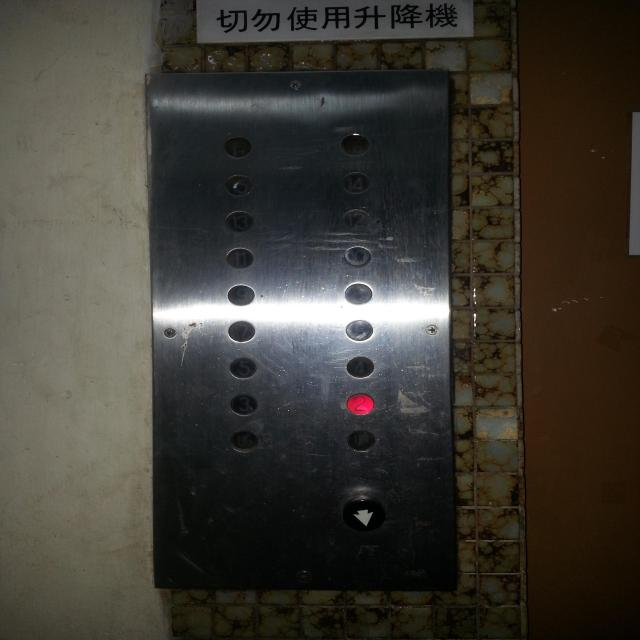11: (224, 246, 255, 270)
12: (340, 208, 372, 231)
13: (223, 209, 255, 235)
14: (340, 170, 371, 194)
16: (338, 132, 372, 158)
2: (345, 391, 375, 416)
3: (228, 392, 259, 417)
4: (345, 354, 375, 379)
5: (228, 356, 258, 379)
7: (227, 319, 256, 343)
9: (226, 283, 256, 307)
UG: (345, 427, 376, 453), (228, 429, 259, 453)
blur: (343, 280, 373, 306), (344, 318, 374, 343), (223, 173, 254, 197), (223, 135, 253, 159), (342, 245, 372, 268)
down: (339, 494, 386, 533)
